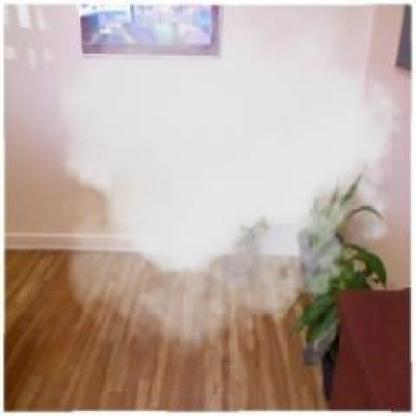Smoke: (57, 4, 414, 368)
